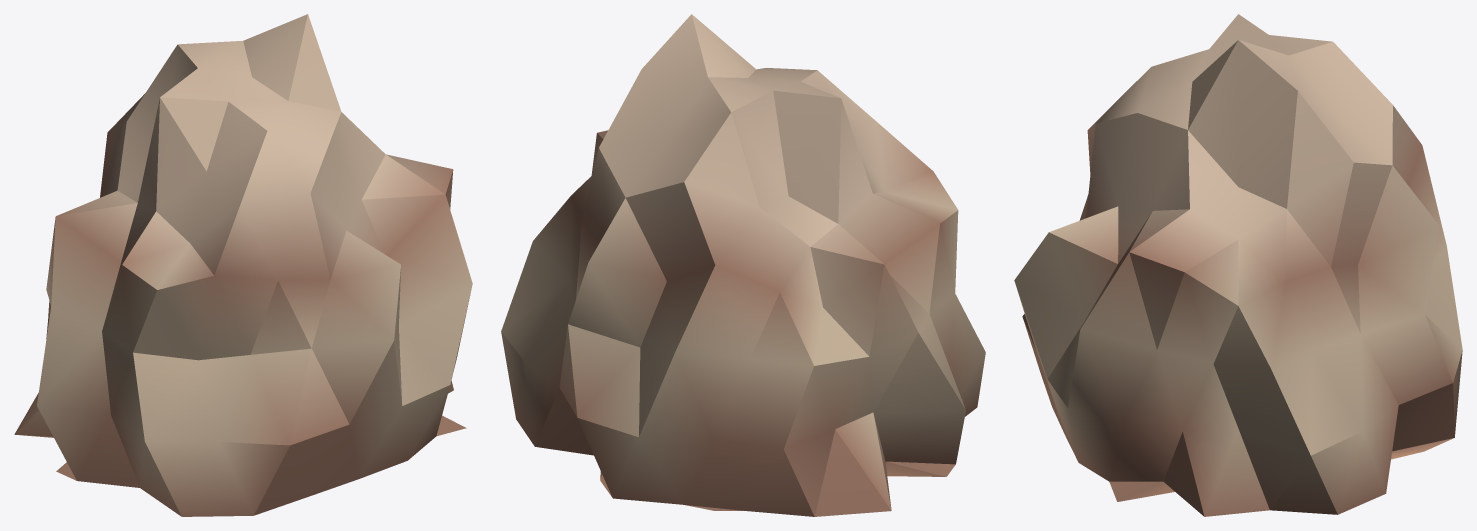
File: boulder_b.glb
3 renders of one model, left to right at view 1: azimuth 30°, elevation 25°; view 2: azimuth 150°, elevation 25°; view 3: azimuth 270°, elevation 25°, orthographic. The views are drawn at different scales.
Visible parts, largest first — view 1: boulder_b; view 2: boulder_b; view 3: boulder_b.
Part boxes in pixels (left/top/right/bottom): boulder_b: left=14, top=14, right=472, bottom=516; boulder_b: left=501, top=14, right=985, bottom=516; boulder_b: left=1014, top=14, right=1462, bottom=516.
Size of the model in its own units: 2.05 by 1.83 by 1.81.
